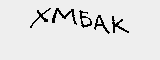А: (89, 13, 112, 35)
Б: (78, 8, 93, 30)
К: (110, 15, 131, 35)
М: (51, 7, 76, 27)
Х: (30, 6, 50, 25)
